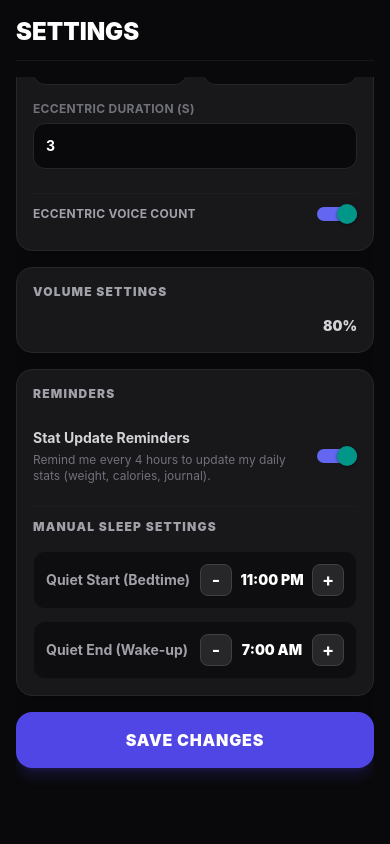
Test case: SettingsModal › stat reminders › hides the quiet-window controls when reminders are turned off
(page scrolled)
Click the switch with test id "toggle-stat-reminders": point(337, 456) [317, 446, 357, 466]
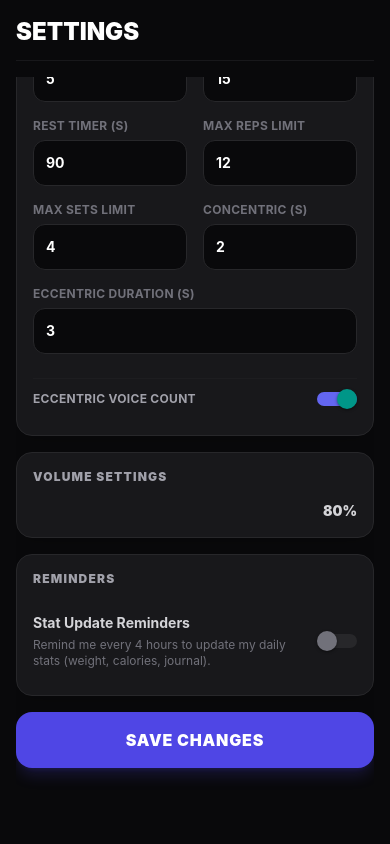
Expected: the text with test id "sleep-start-text" is gone
Expected: the text with test id "sleep-end-text" is gone
